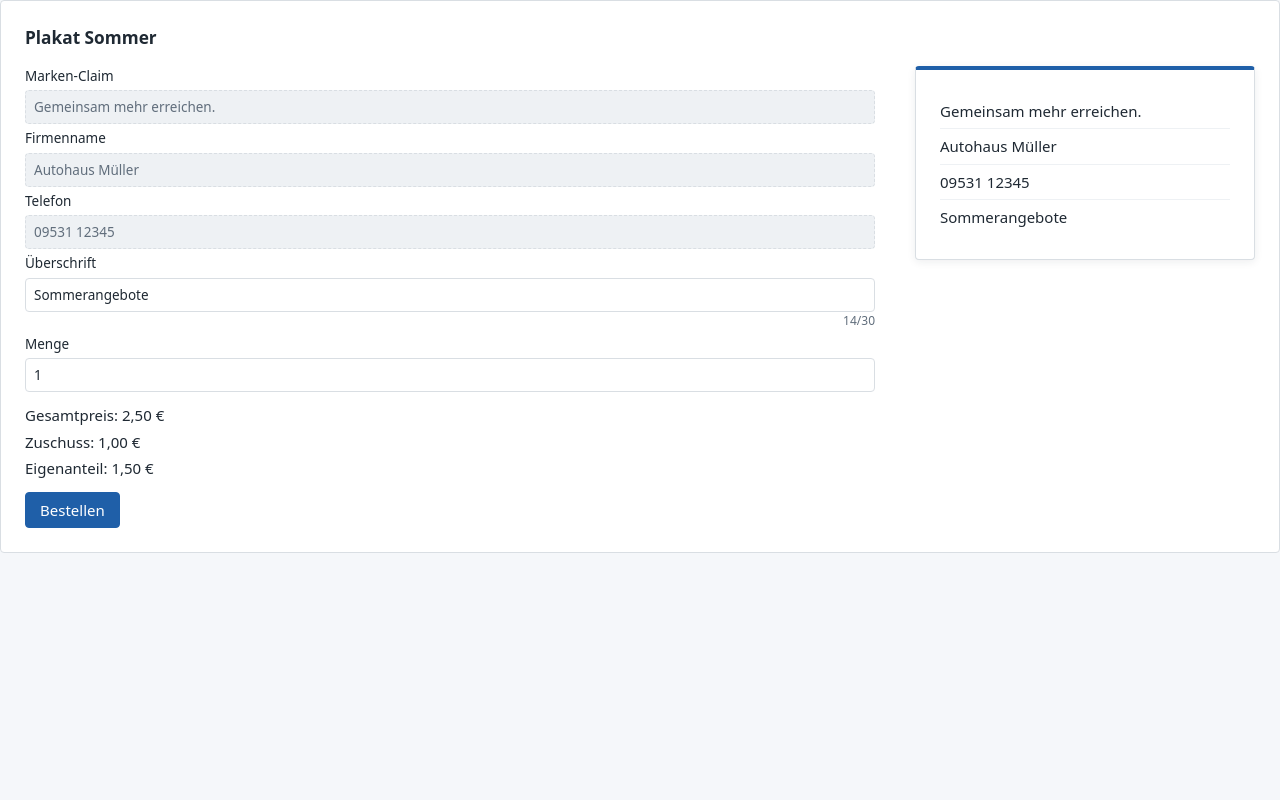
TemplateEditorPage › ui3_editableFieldHasMaxLengthAndCharacterCounter
Expected: the text "14/30" is shown, x1=843 y1=312 x2=875 y2=329
Replace the text in the field labelled "Überschrift" with "Hallo": (450, 295) x1=25 y1=278 x2=875 y2=312
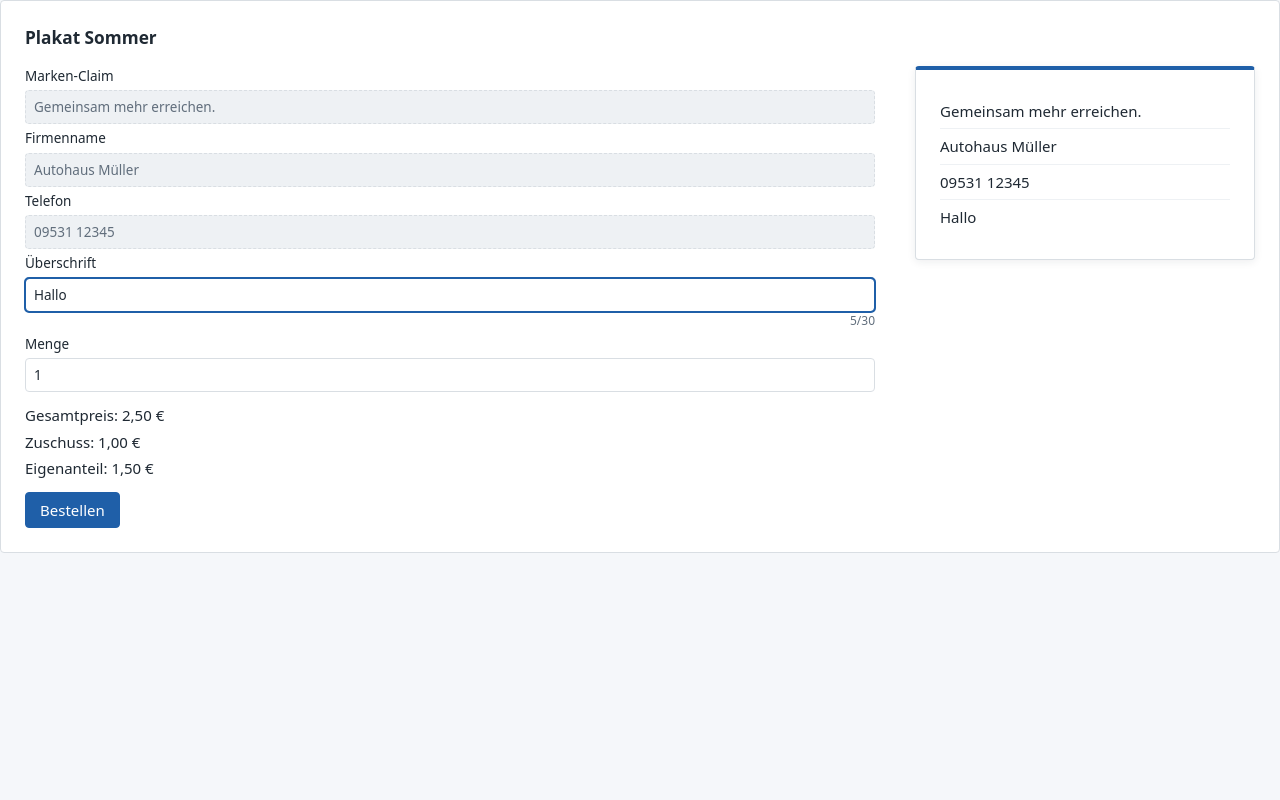
Expected: the text "5/30" is shown, x1=850 y1=312 x2=875 y2=329
